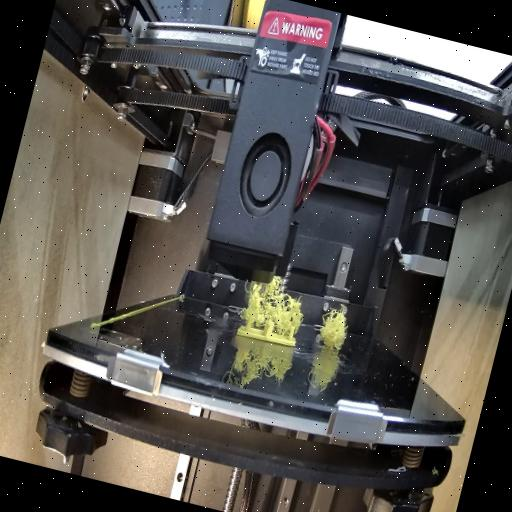spaghetti: (238, 268, 316, 338), (314, 304, 351, 354)
